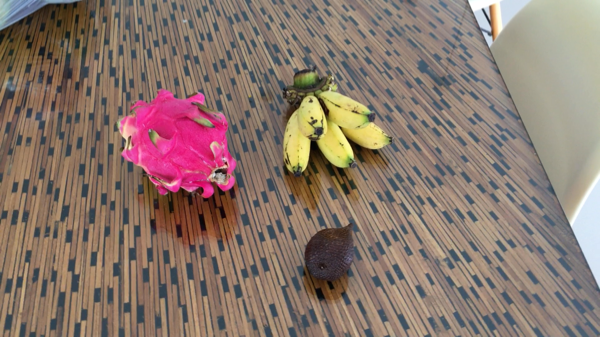banana: (278, 66, 390, 174)
dragon fruit: (112, 93, 238, 200)
snake fruit: (306, 225, 362, 277)
